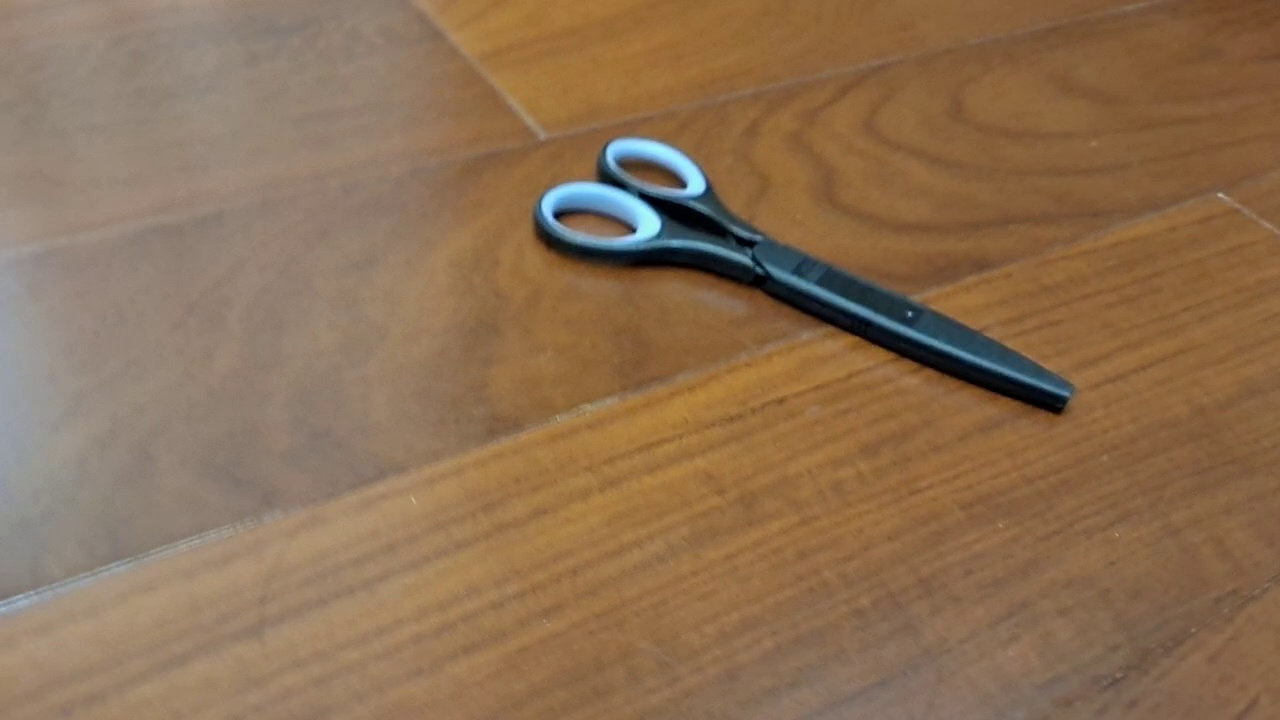scissors: (532, 134, 1077, 417)
